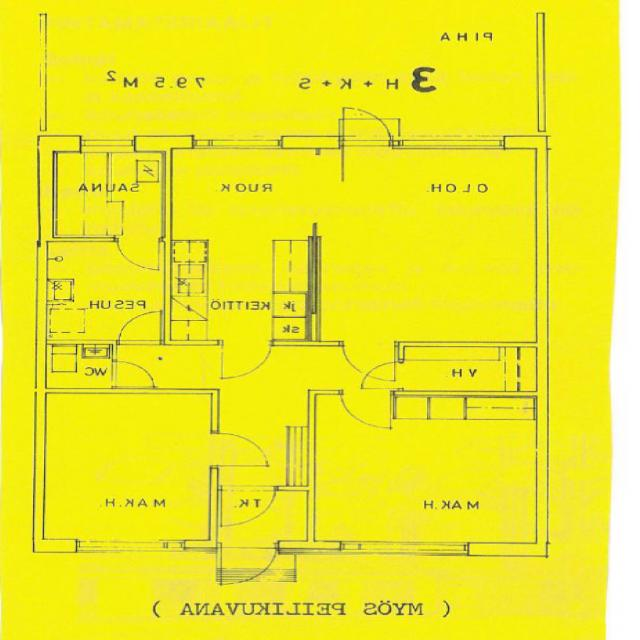door: (221, 540, 276, 590), (222, 486, 274, 527), (343, 104, 390, 149), (344, 340, 396, 380), (209, 432, 267, 466), (342, 390, 391, 429), (223, 340, 272, 378), (118, 235, 159, 269), (119, 312, 161, 345), (359, 362, 404, 388), (111, 361, 155, 386)
